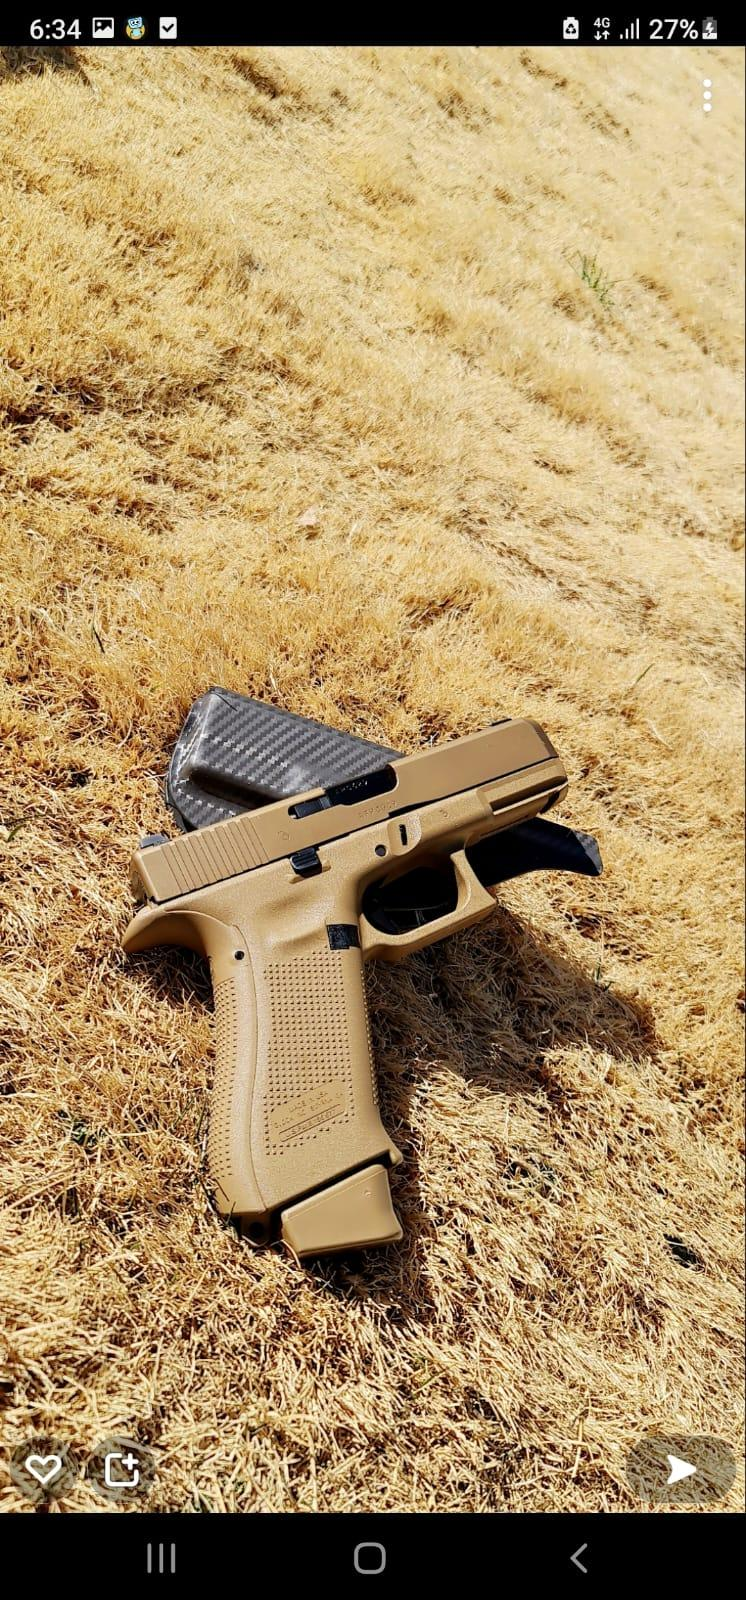weapon: (125, 714, 567, 1272)
